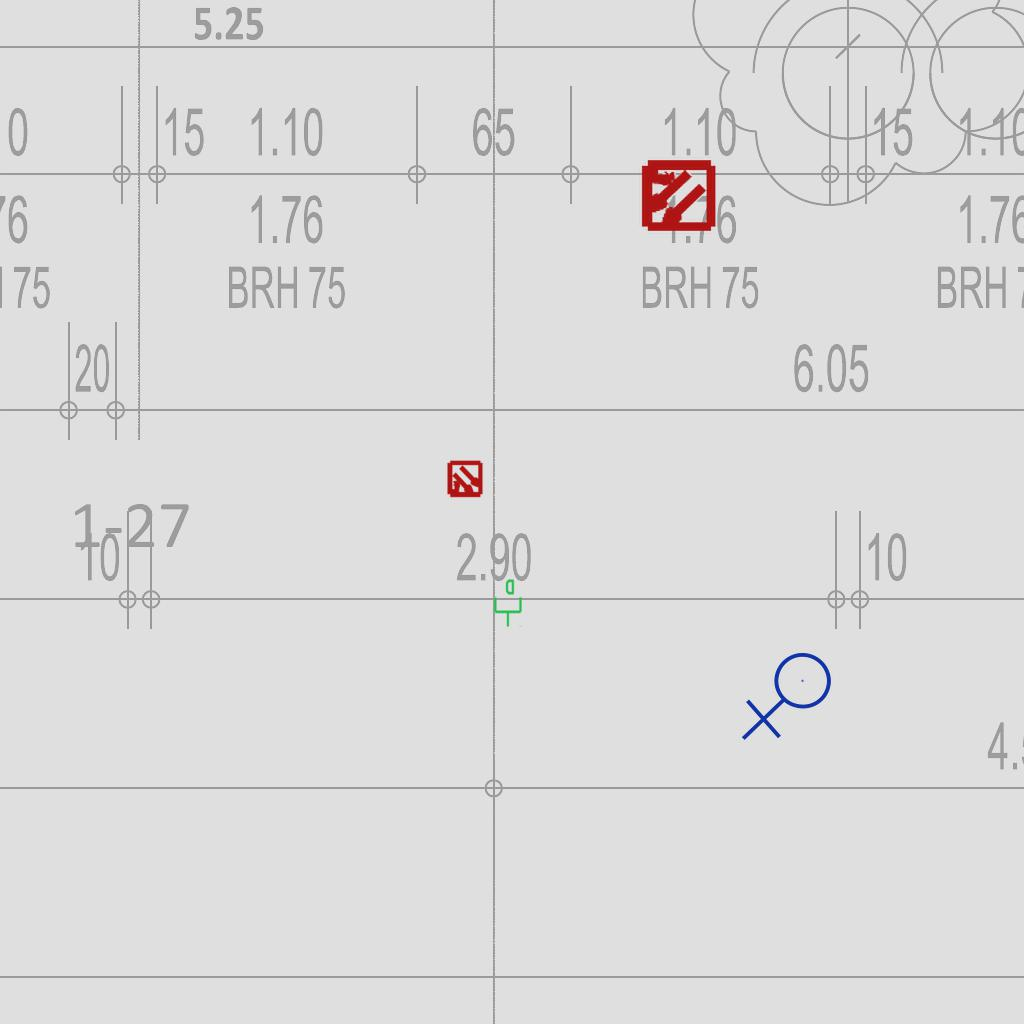Datenanschluss_einfach: (490, 578, 524, 628)
Elektroanschluss_allgemein_230V_Geraeteanschlussdose_230V: (741, 651, 840, 745)
OT_Multisensormelder_(Kombination_RMO_WMD): (620, 139, 733, 252), (437, 452, 493, 508)
